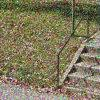stairs: (60, 29, 100, 98)
